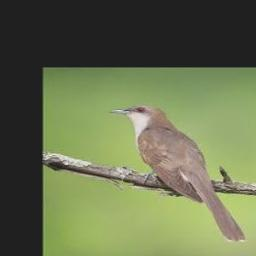Cuckoo: (108, 105, 245, 241)
